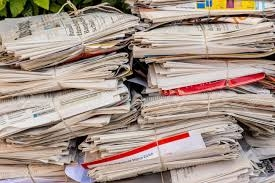paper: (74, 110, 244, 183), (1, 75, 143, 146), (1, 6, 143, 75), (135, 83, 275, 138), (128, 16, 275, 65)
